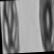correct: (35, 0, 54, 52)
not correct: (0, 0, 21, 54)
